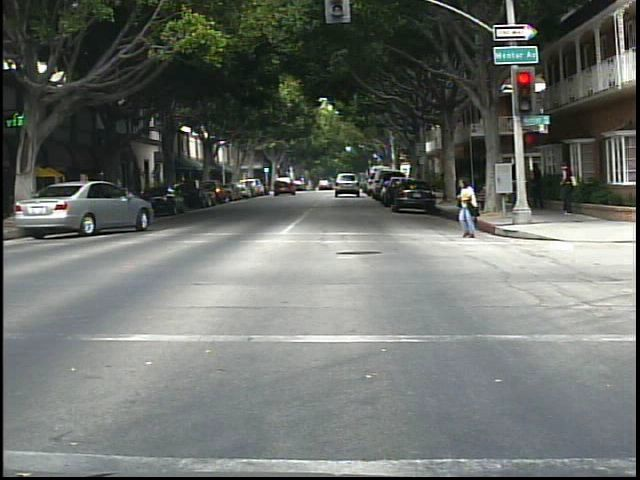person: (451, 175, 487, 243), (556, 156, 584, 217), (529, 158, 551, 216)
